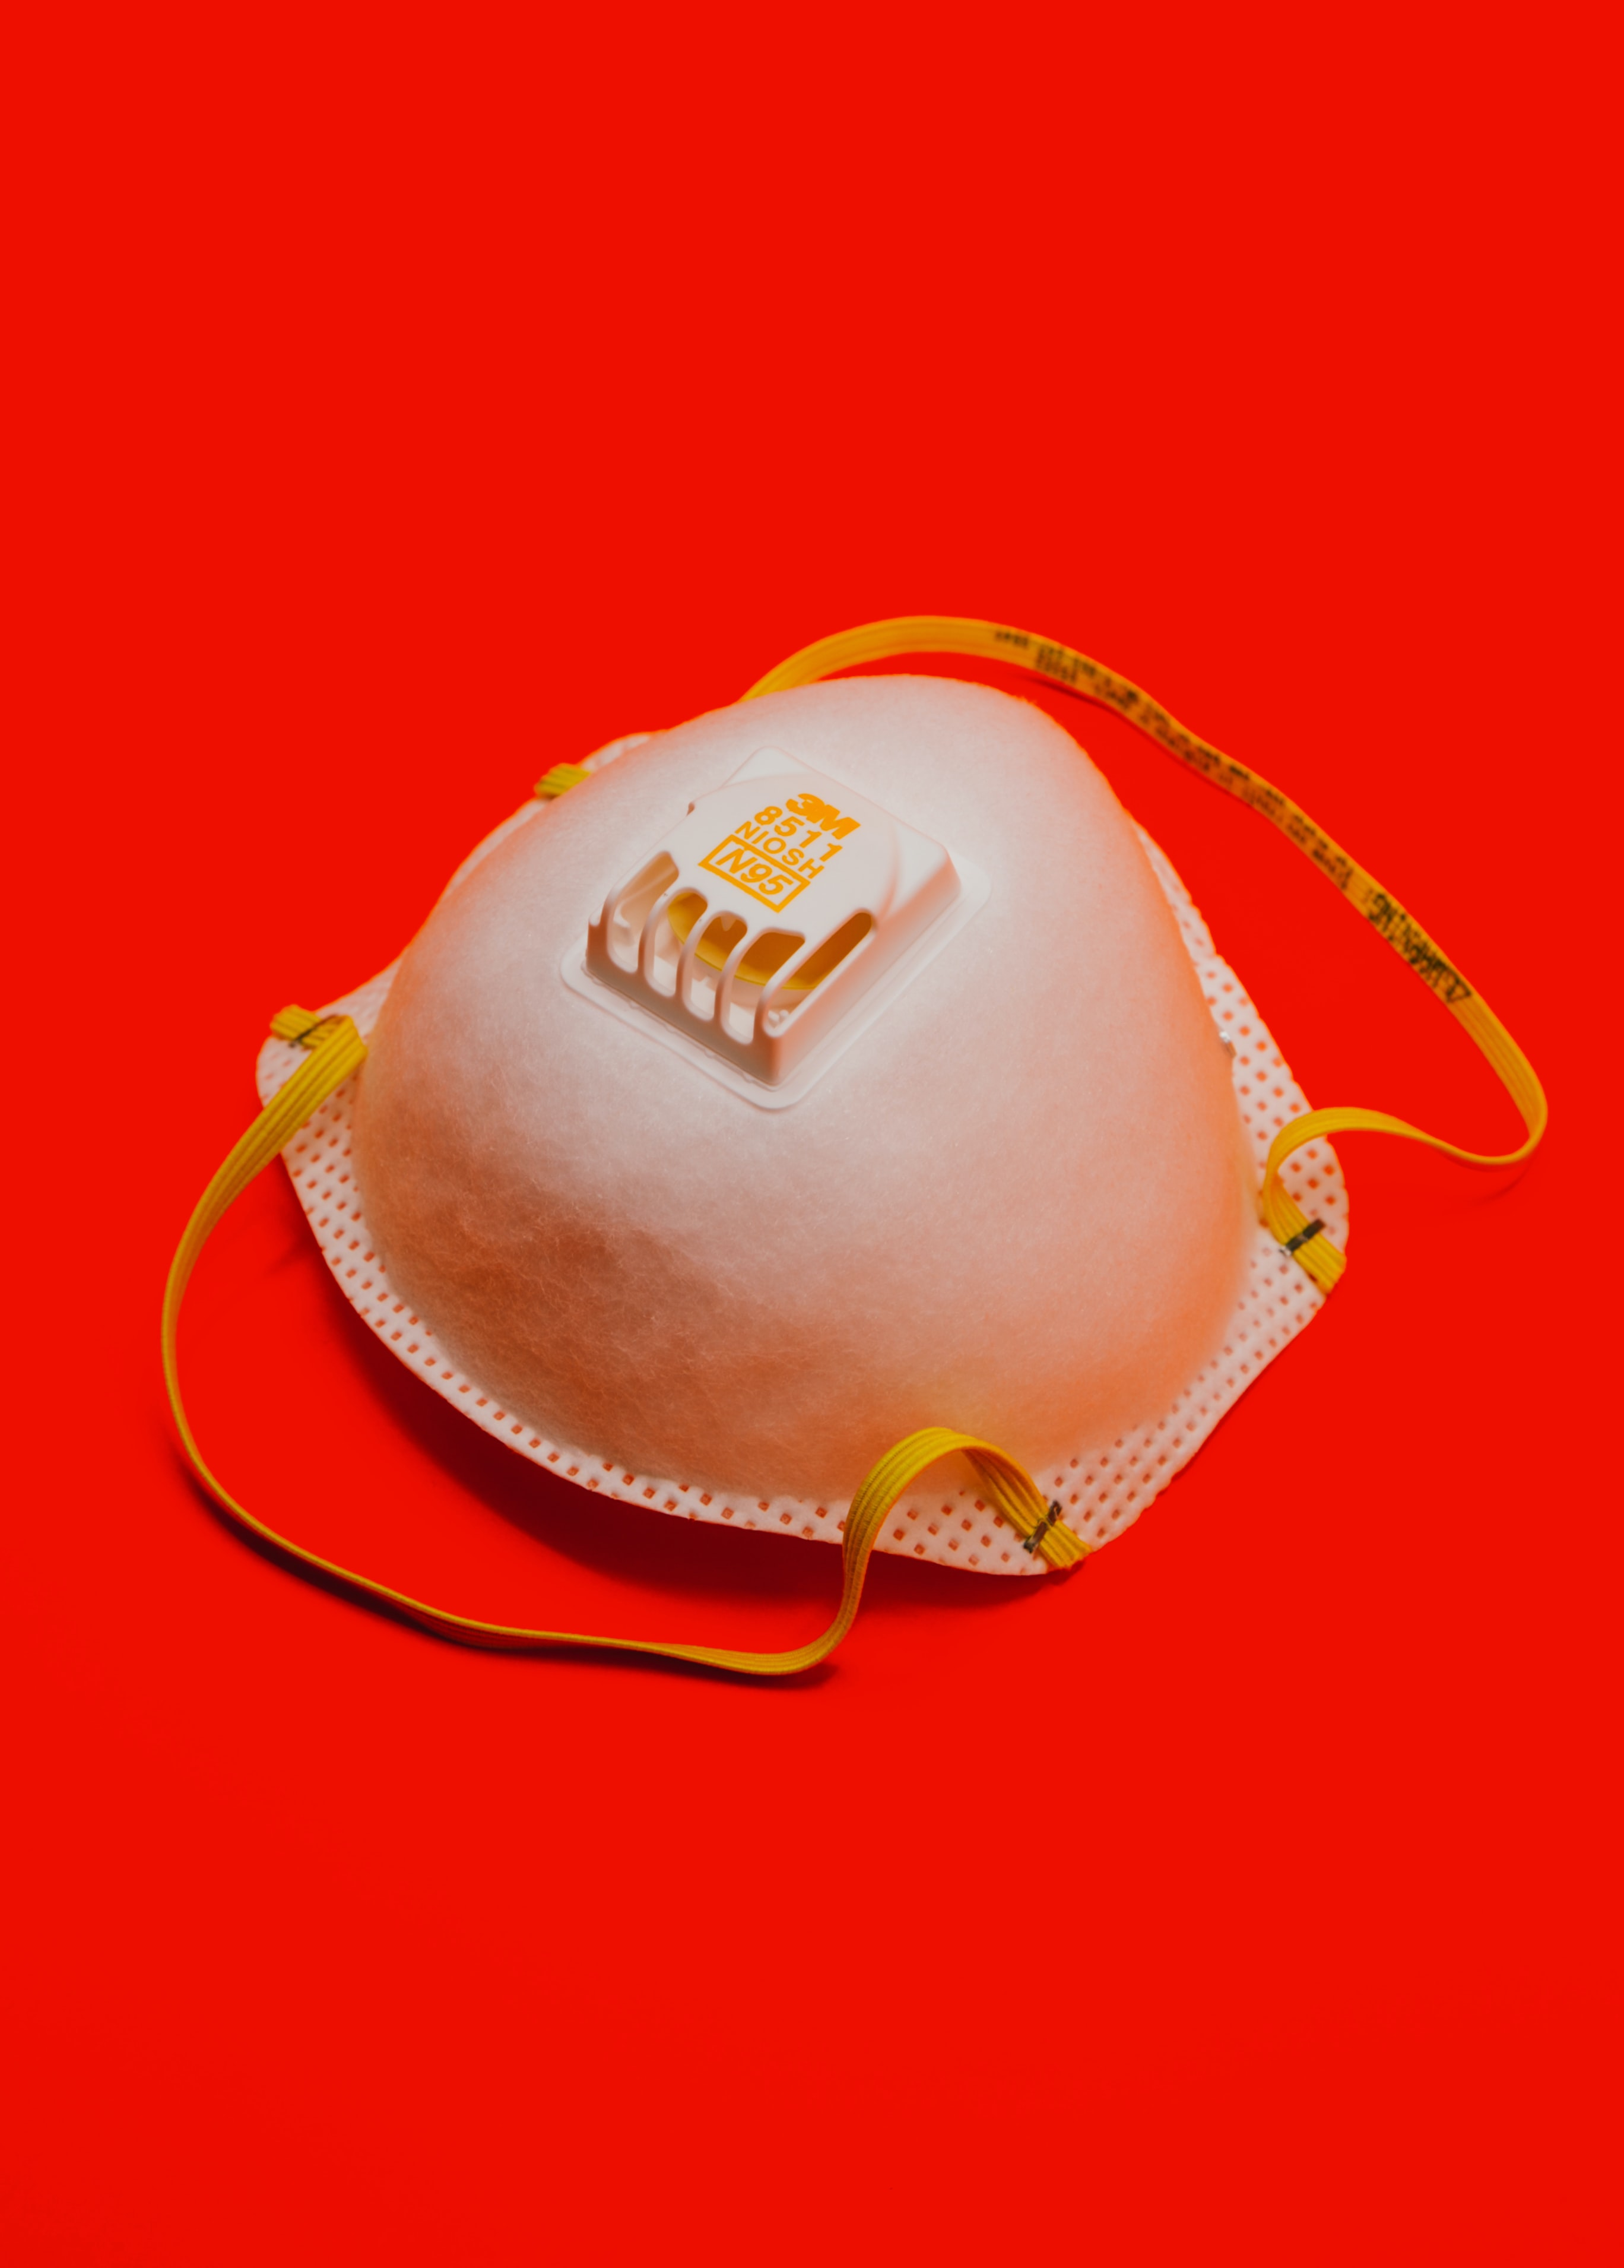mask: (151, 598, 1552, 1700)
